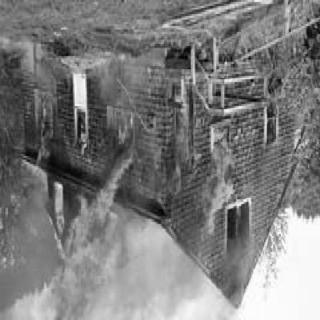Fire: (203, 117, 235, 237), (169, 83, 195, 195)
